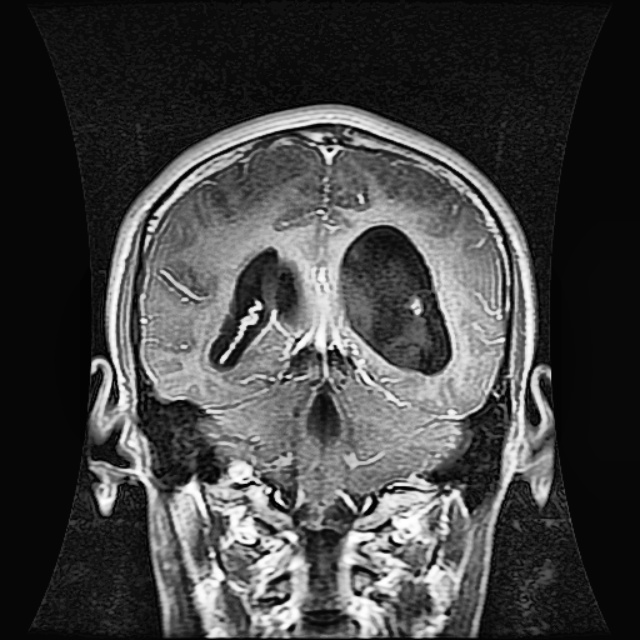Meningioma: (340, 224, 454, 372)
